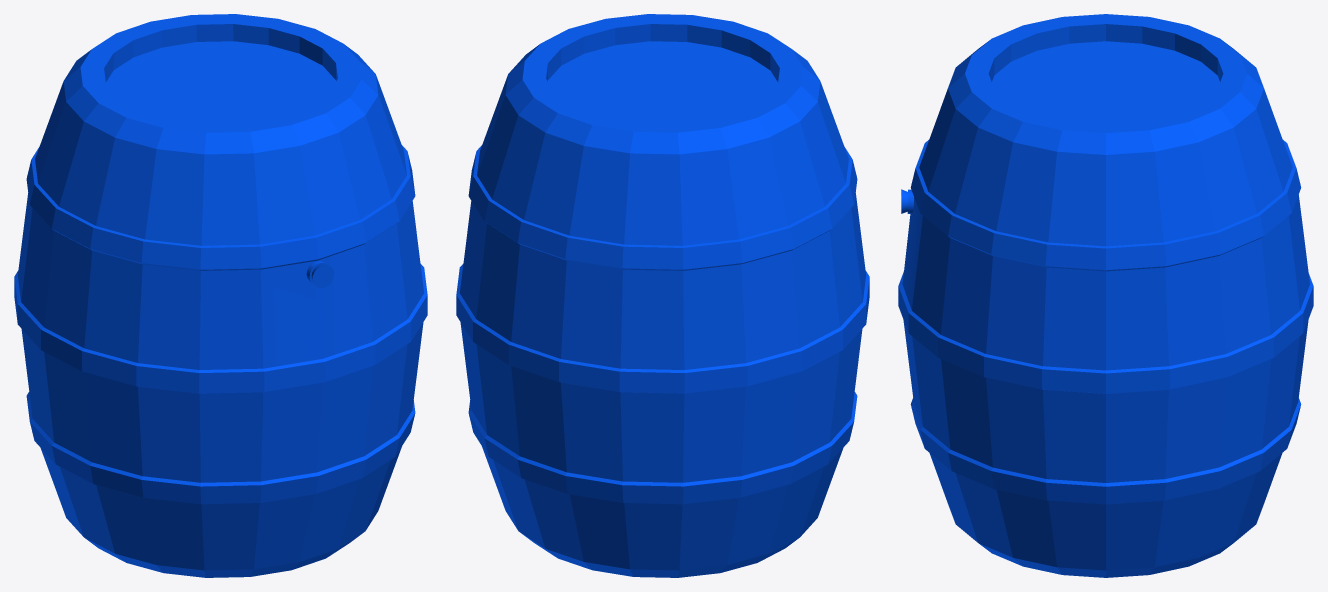
The model's file is fresh-cask.obj.
3 renders of one model, left to right at view 1: azimuth 30°, elevation 25°; view 2: azimuth 150°, elevation 25°; view 3: azimuth 270°, elevation 25°, orthographic.
Parts seen in each view (by area): view 1: pCylinder7; view 2: pCylinder7; view 3: pCylinder7.
Boxes of the visible parts, box(x1,y1,x2,y2) form: pCylinder7: box(14, 14, 427, 577); pCylinder7: box(456, 14, 869, 577); pCylinder7: box(898, 14, 1313, 577).
Size of the model in its own units: 84.86 by 100 by 84.86.
